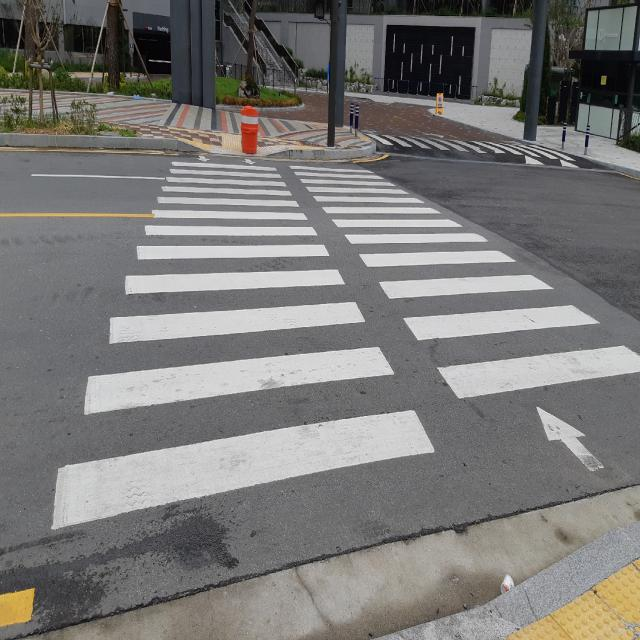횡단보도: (42, 151, 640, 542)
